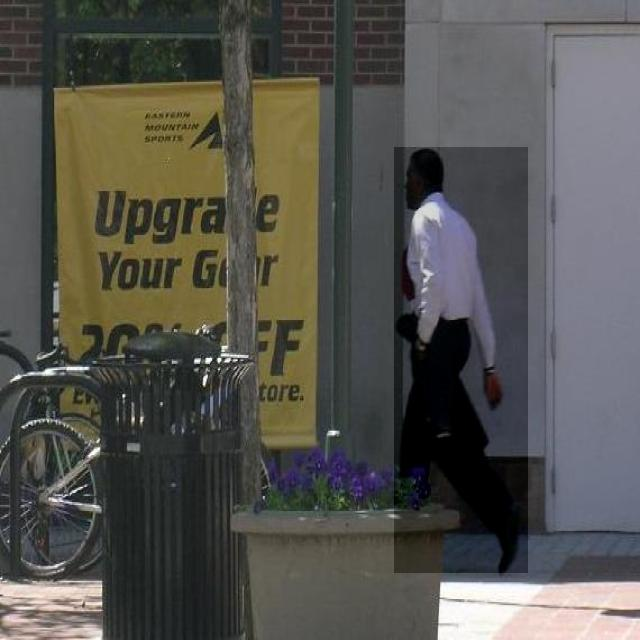with scooter: (394, 147, 528, 573)
